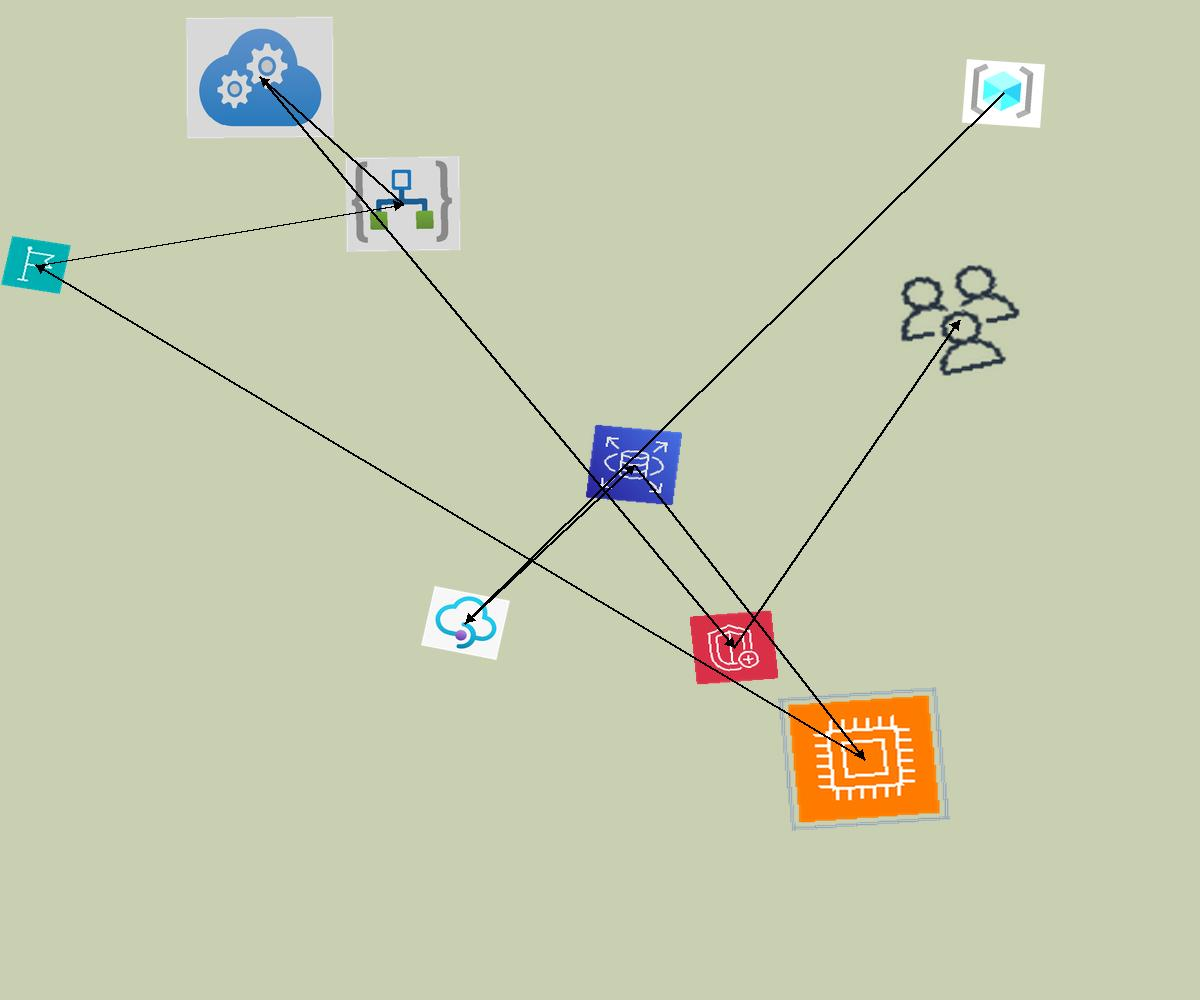AWS-Category_Compute: (778, 687, 950, 831)
AWS-RDS: (585, 424, 683, 506)
AWS-Region: (1, 236, 71, 294)
AWS-Res_Users: (877, 252, 1041, 389)
AWS-Shield: (689, 610, 779, 685)
Azure_api_gateway: (421, 586, 510, 660)
Azure_cloud_services: (186, 16, 334, 139)
Azure_integration-204-Logic-Apps: (345, 156, 461, 252)
Azure_resource_group: (962, 59, 1045, 128)
